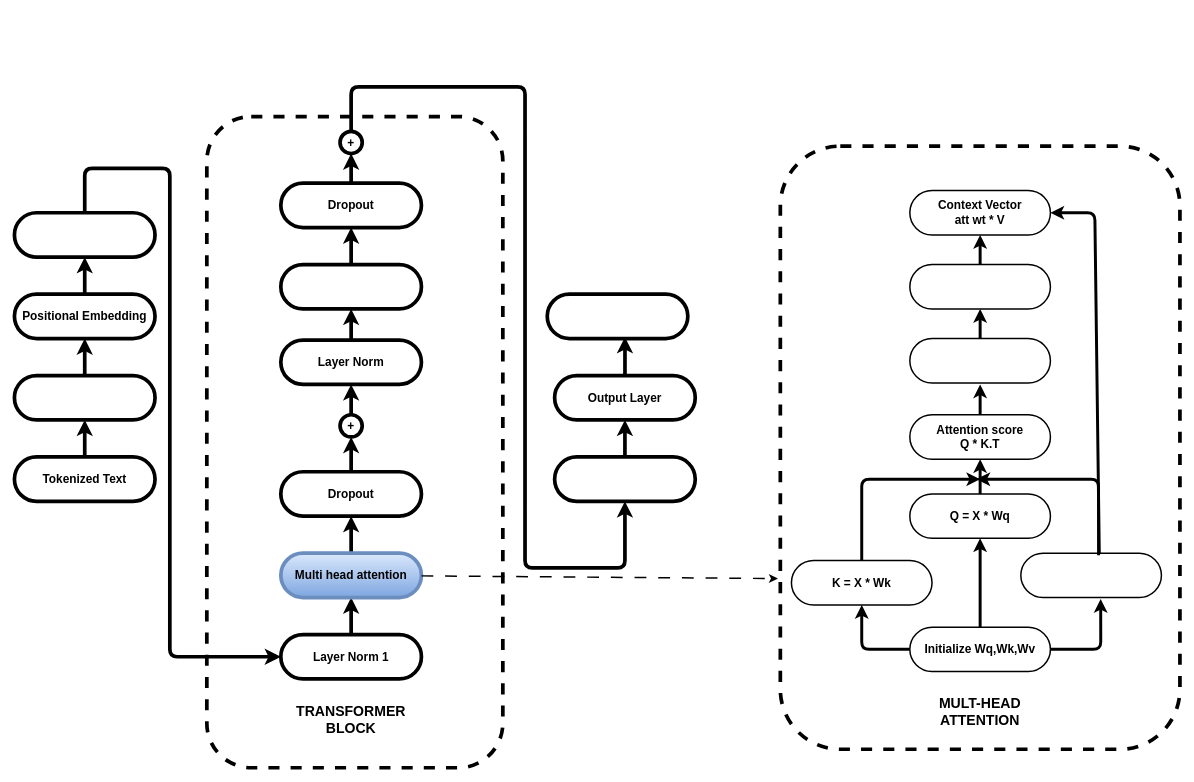
Some shapes in this 1194 by 782 pixel diagram are drawn without their labels. Each missing label, with the centre of its shape:
"Causal self Attention score Infinity mask" goes at (980,360).
"Feed forward NN" goes at (351,286).
"Final Layer Norm" goes at (624,479).
"Input Embedding" goes at (84,235).
"Logists Matrix" goes at (617,316).
"Normalization softmax(score/sqrt(dim))" goes at (980,286).
"Token Embedding" goes at (84,397).
"V = X * Wv" goes at (1091,575).
